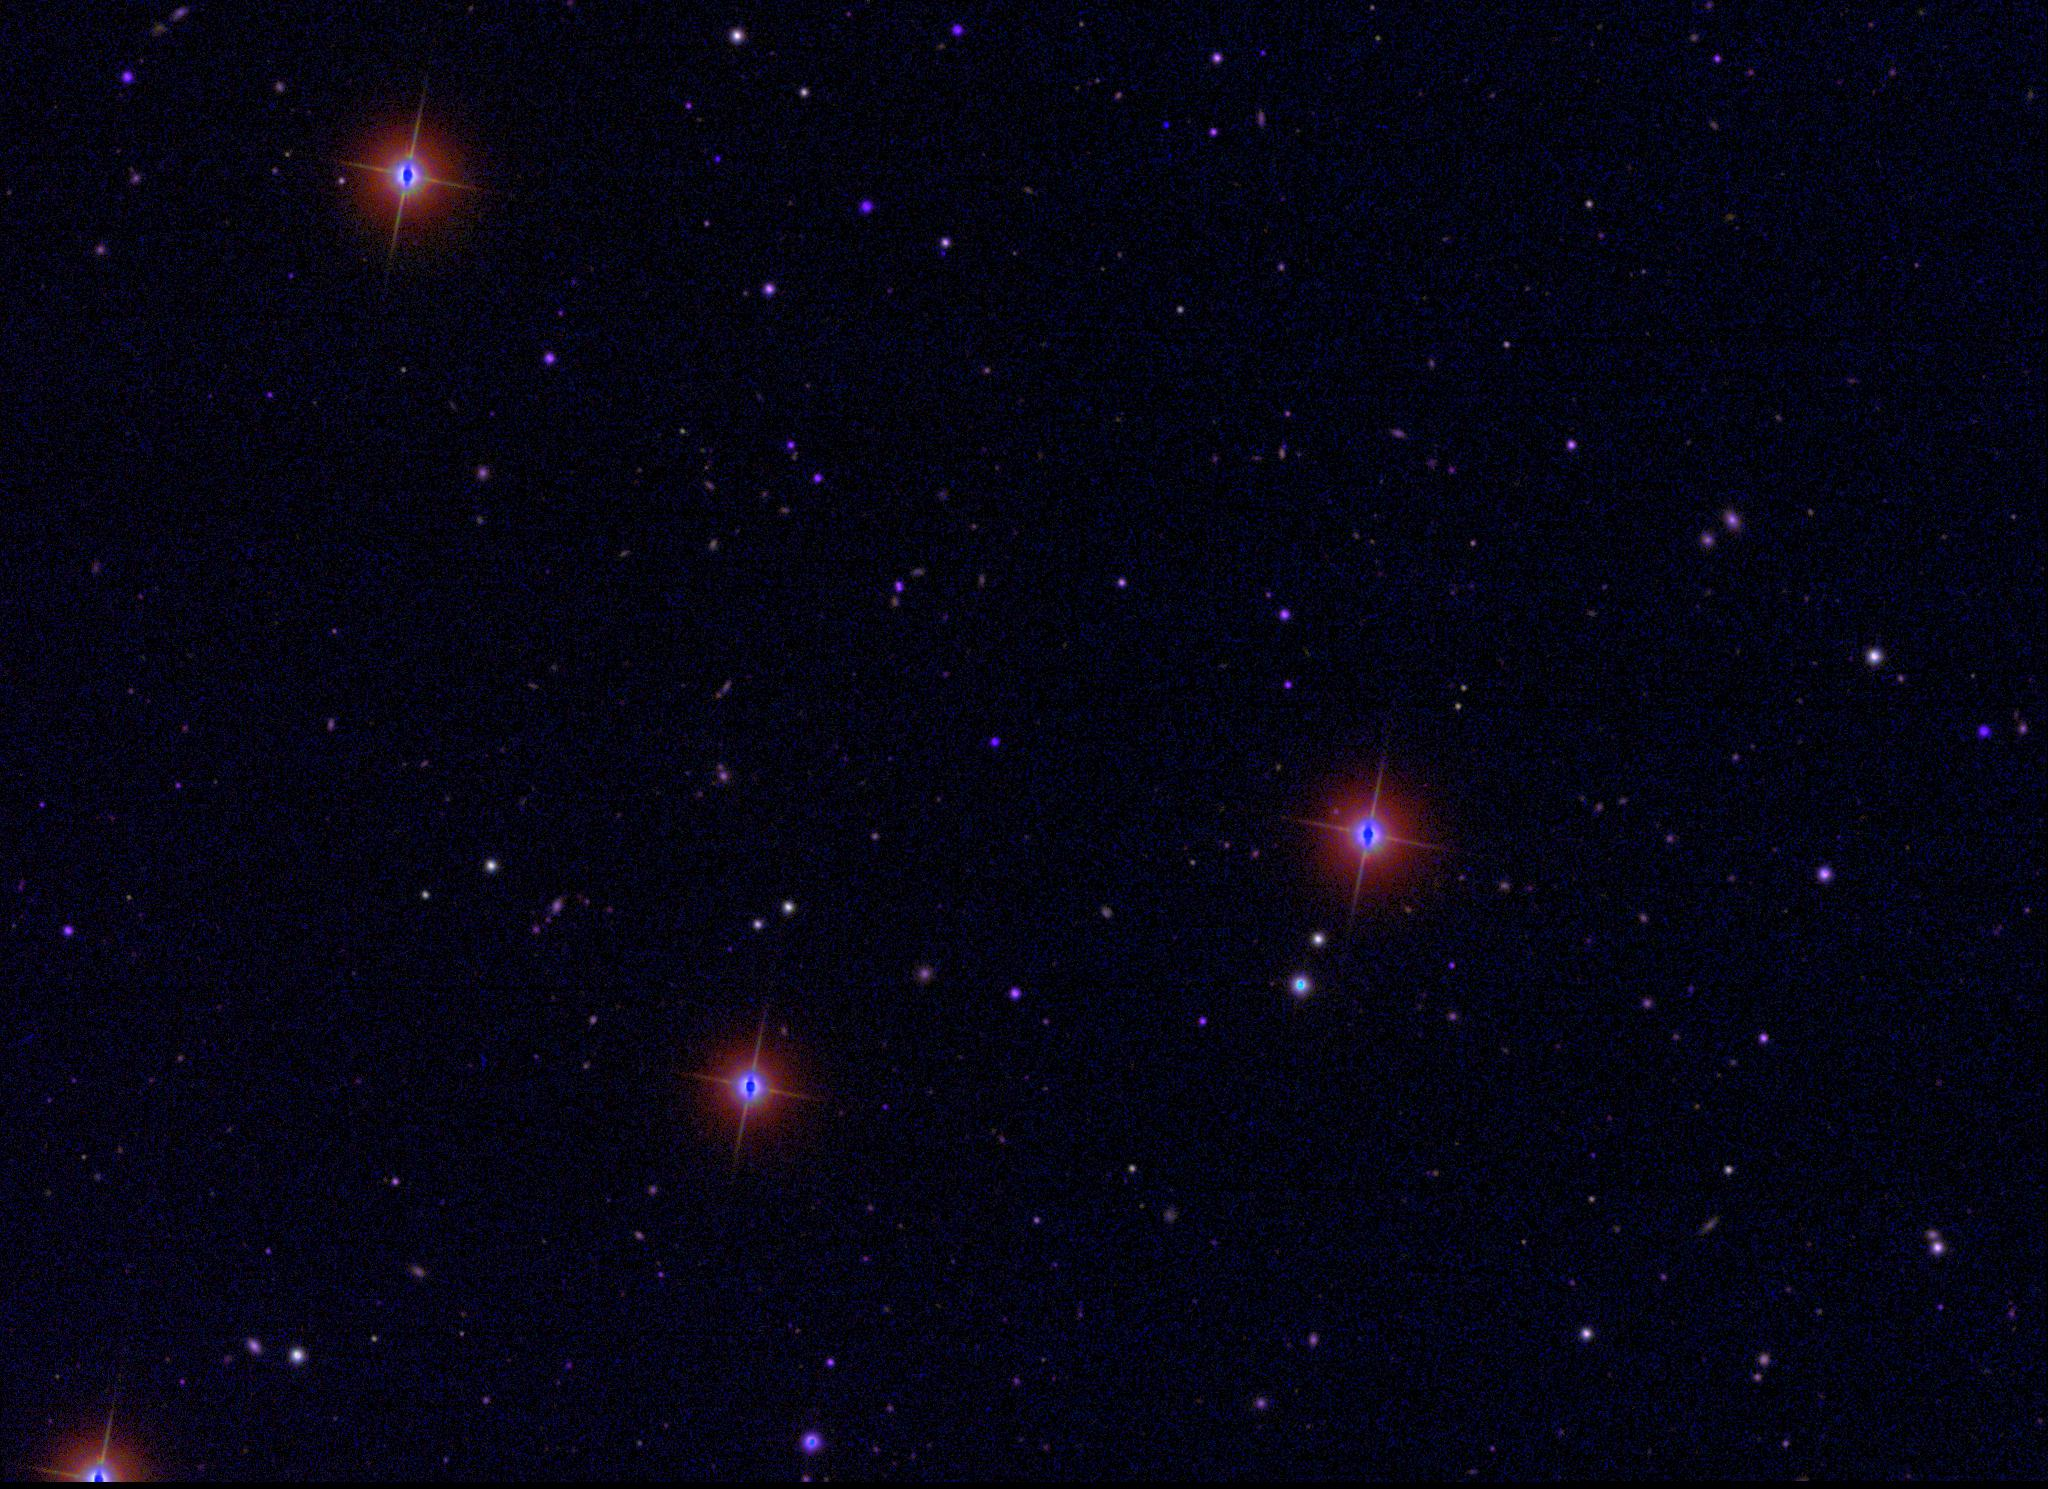L: (1156, 119, 1170, 134)
